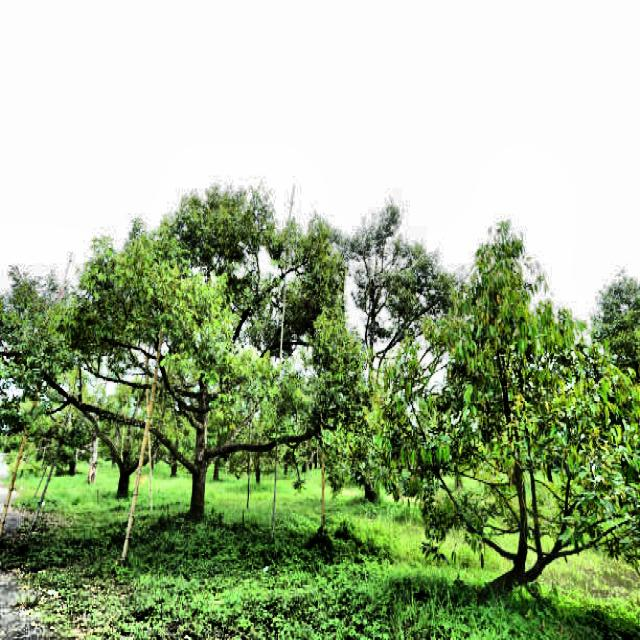arvore: (184, 354, 214, 534), (115, 415, 133, 506)
